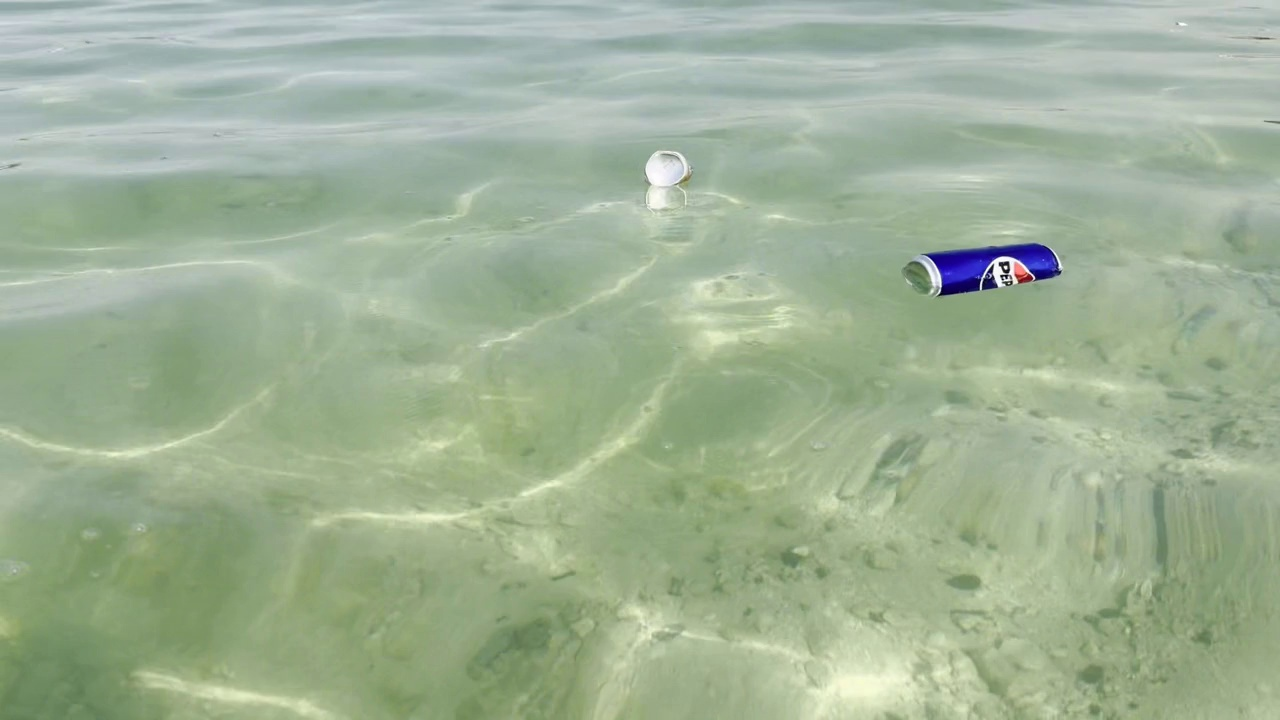debris: (899, 232, 1063, 311), (640, 140, 698, 196)
